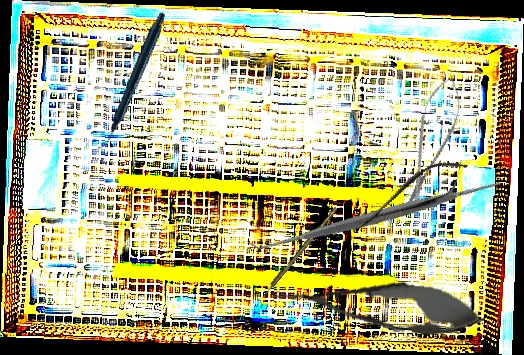Handpiece: (53, 10, 208, 152)
Hook Surgical: (258, 206, 339, 301)
Micro Scissor: (270, 268, 489, 343), (392, 69, 470, 221), (349, 149, 477, 240)
Spatula Surgical: (246, 83, 511, 349)
